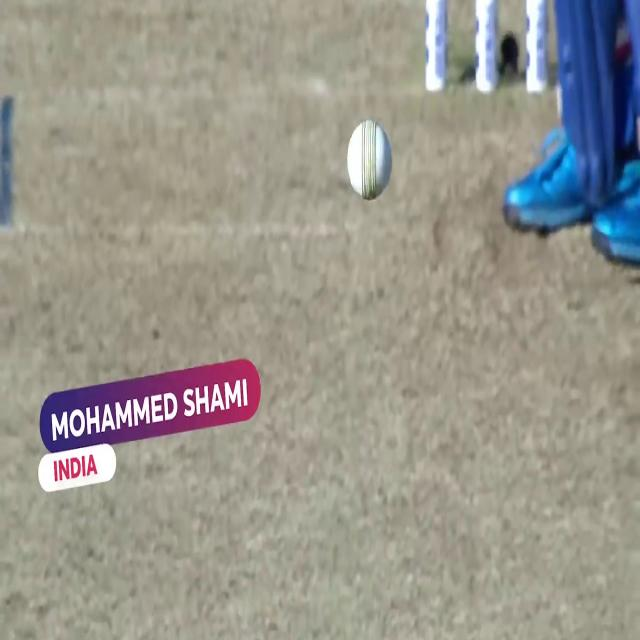ball: (346, 120, 394, 203)
